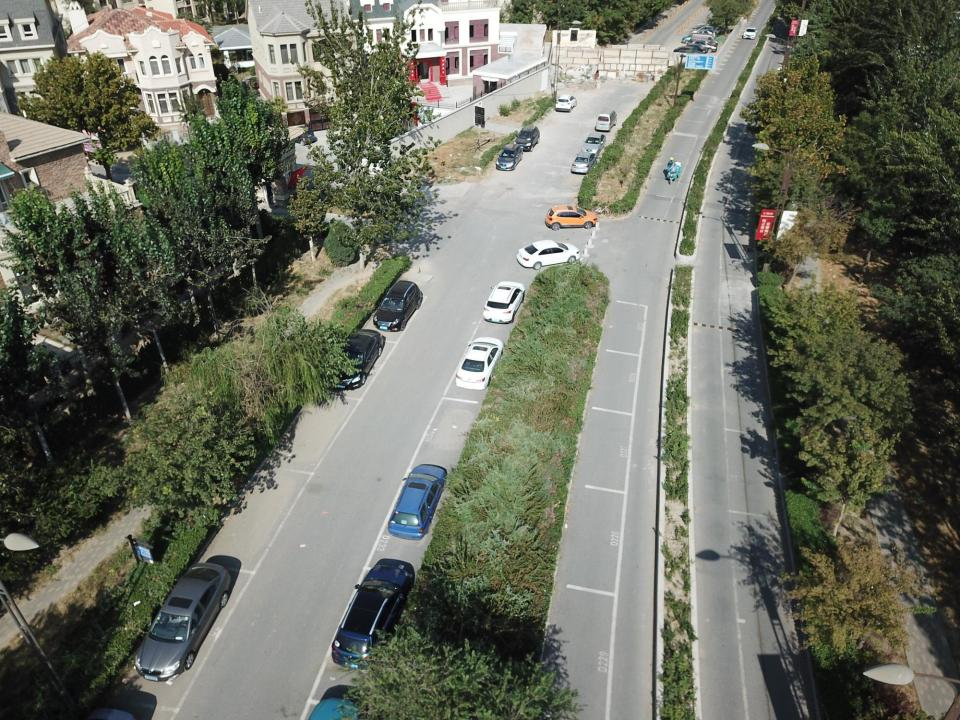car: (134, 563, 232, 681), (332, 558, 415, 671), (388, 465, 446, 542), (326, 328, 386, 390), (455, 336, 503, 390), (374, 280, 422, 332), (482, 280, 526, 324), (514, 241, 579, 270), (546, 206, 599, 230), (496, 144, 522, 170), (512, 126, 539, 150), (672, 43, 707, 60), (571, 153, 596, 173), (681, 28, 716, 42), (583, 134, 605, 156), (692, 24, 725, 36), (687, 41, 717, 54), (556, 94, 580, 109), (742, 26, 756, 38)
van: (594, 108, 616, 132)
